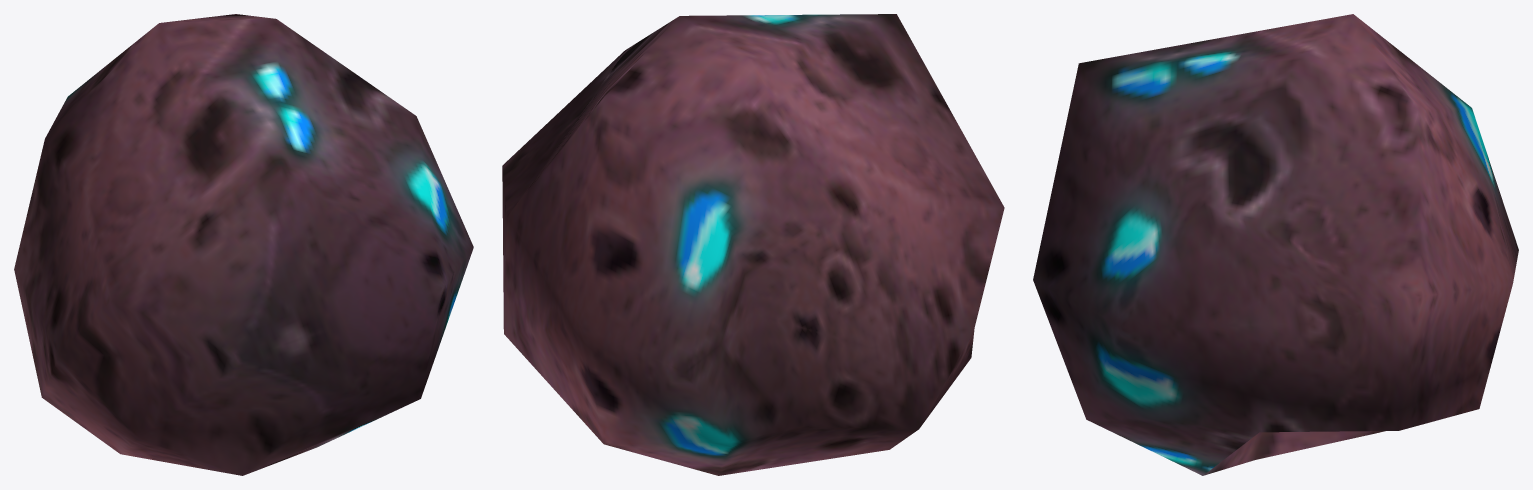
The model's file is Asteroid_Sml_A_01.FBX.
The picture shows the model from 3 angles, left to right: view 1: azimuth 30°, elevation 25°; view 2: azimuth 150°, elevation 25°; view 3: azimuth 270°, elevation 25°; orthographic projection. The views are drawn at different scales.
Parts seen in each view (by area): view 1: Asteroid_Sml_A_01; view 2: Asteroid_Sml_A_01; view 3: Asteroid_Sml_A_01.
Boxes of the visible parts, x1,y1,x2,y2 form: Asteroid_Sml_A_01: (14,14,473,475); Asteroid_Sml_A_01: (502,14,1004,475); Asteroid_Sml_A_01: (1033,14,1518,475).
Bounding box in the file's own units: 195 × 193 × 193.
